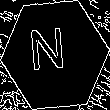N_S: (35, 28, 75, 82)
